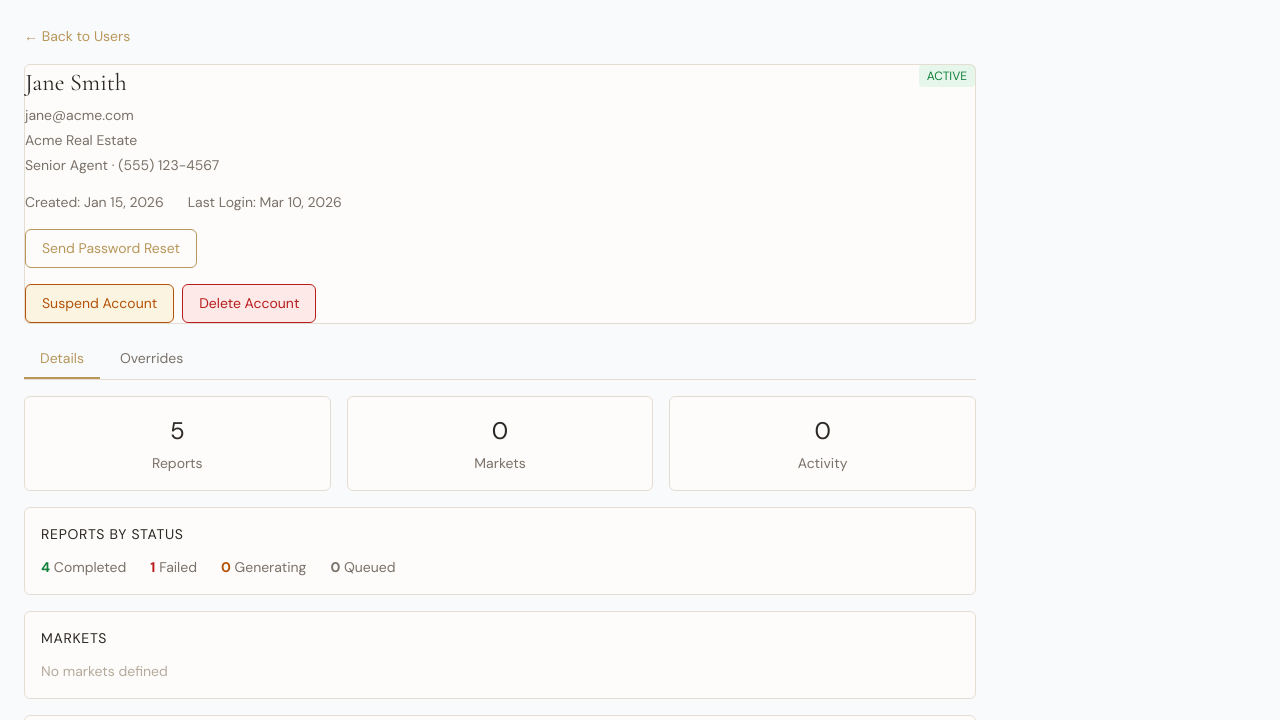
Test: Delete Account › CMP-delete-06: should hide confirmation dialog on Cancel
What coordinates should you click on to do the following:
click the button "Delete Account"
I would click on:
 (249, 304)
Its box is [182,284,316,323].
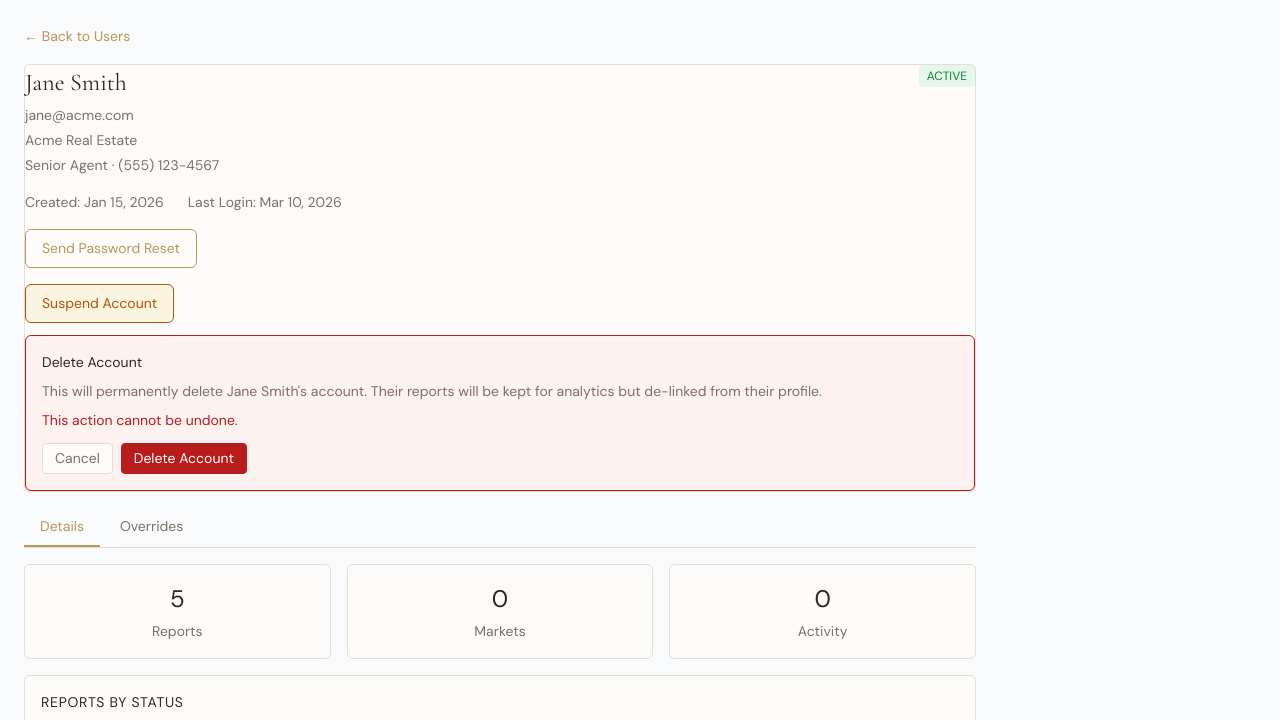
Expected: the text "permanently delete" is shown, [42,382,227,400]
What coordinates should you click on to do the following:
click the button "Cancel"
I would click on:
 (77, 458)
Its box is [42,443,113,474].
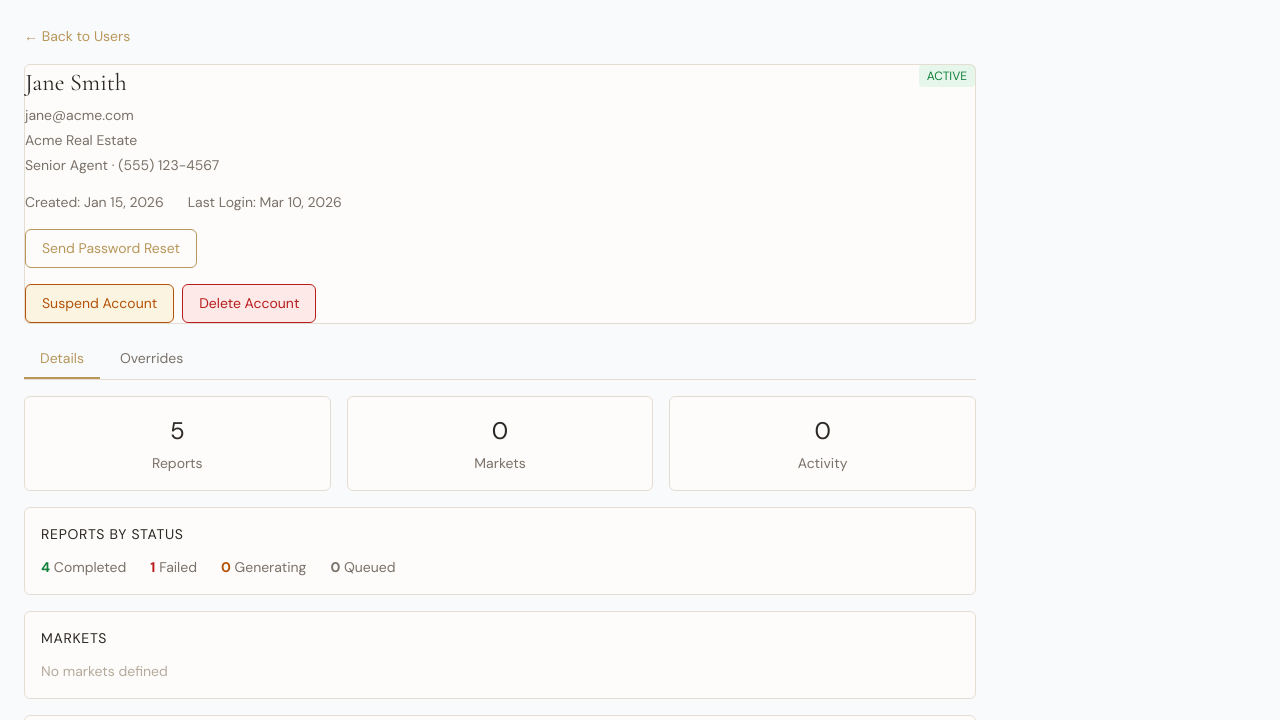
Expected: the text "permanently delete" is gone
